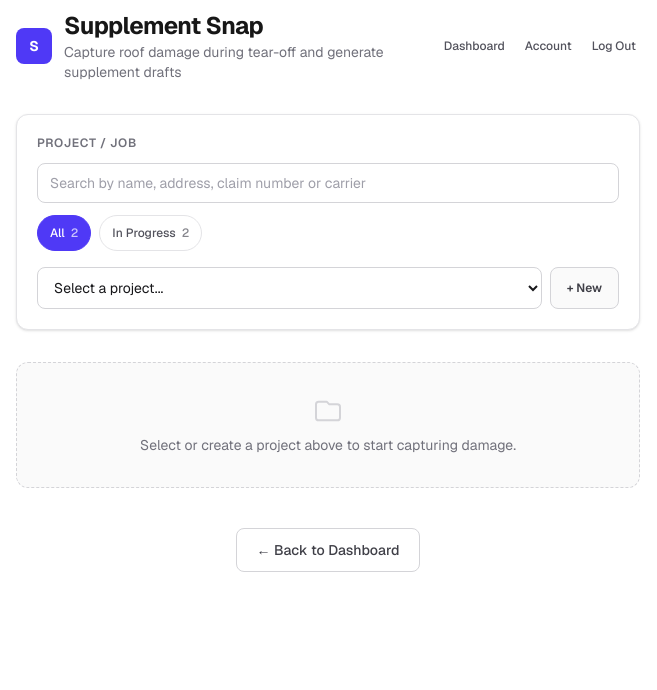
Test: dashboard smoke test (stand-in database) › keeps the claim details form open and shows a message when saving them fails
The width and height of the screenshot is (657, 690).
Select "Garcia Roof (In Progress)" in the dropdown labelled "Project / Job" at x=289, y=288, box x1=37 y1=267 x2=542 y2=309
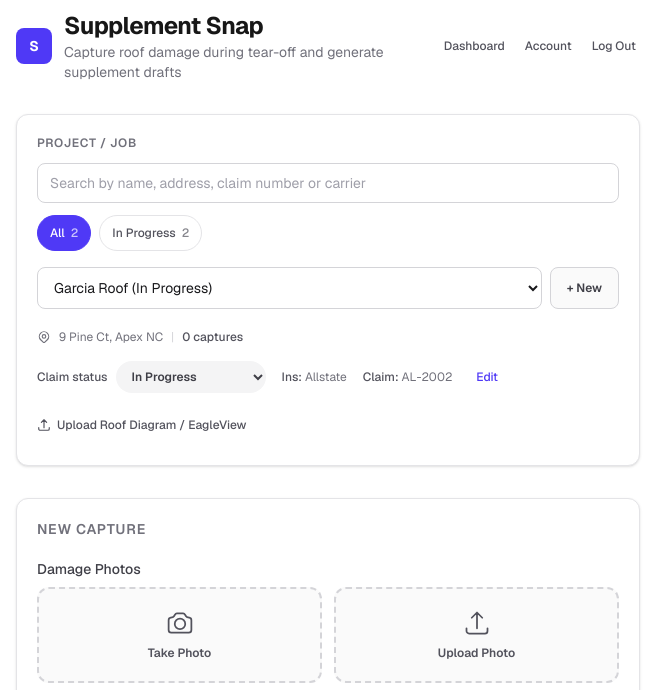
Click the button "Edit" at x=487, y=377, box x1=468 y1=361 x2=506 y2=393
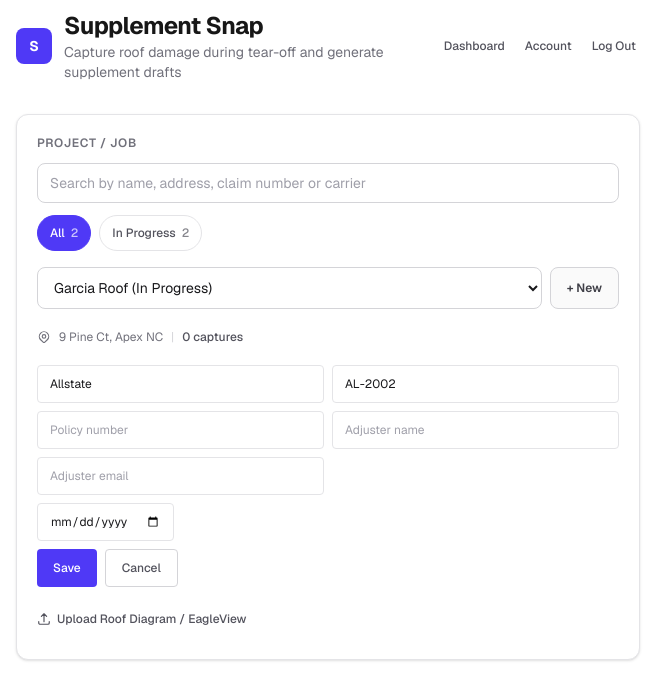
Click the button "Save" at x=67, y=568, box x1=37 y1=549 x2=97 y2=587
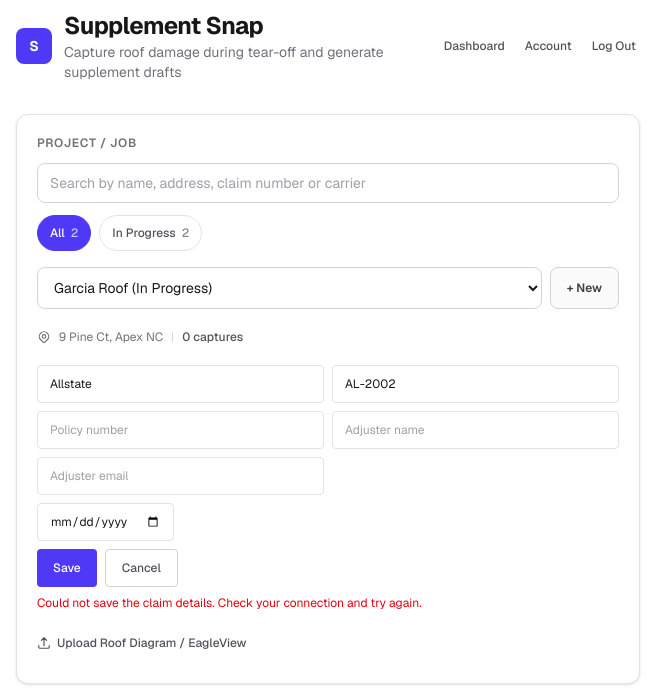
expect the button "Save" is shown: met, box x1=37 y1=549 x2=97 y2=587
expect the text "Could not save the claim details. Check your connection and try again." is shown: met, box x1=37 y1=595 x2=422 y2=611
